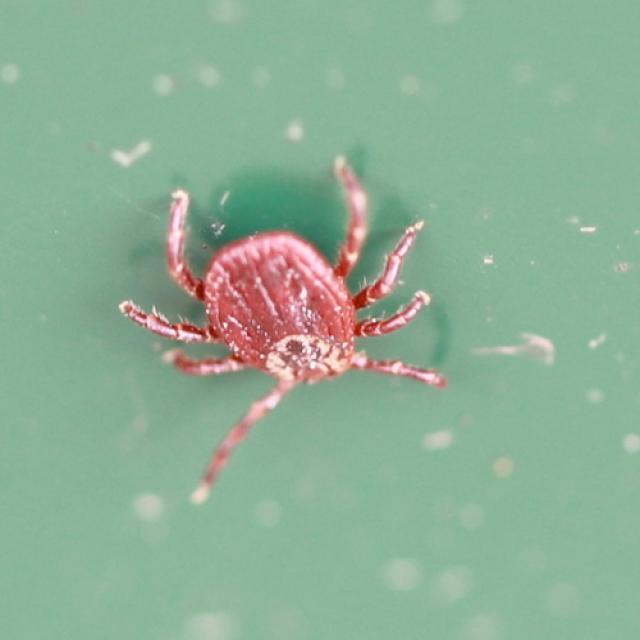Dermacentor Reticulatus-F: (116, 157, 447, 507)
